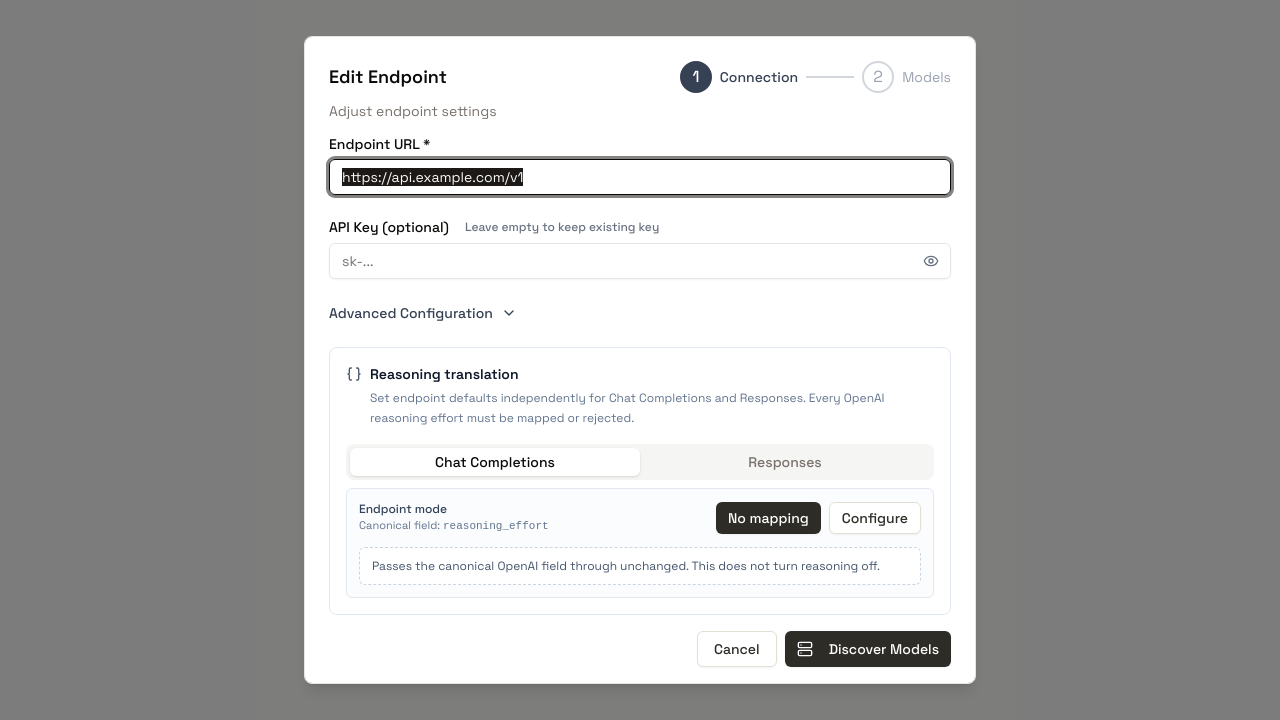
Test: EditEndpointModal › initializes form with endpoint data
Expected: the field showing "https://api.example.com/v1" is shown, [329,159,951,195]
Click the button "Discover Models". click: click(868, 648)
box: [785,630,951,666]
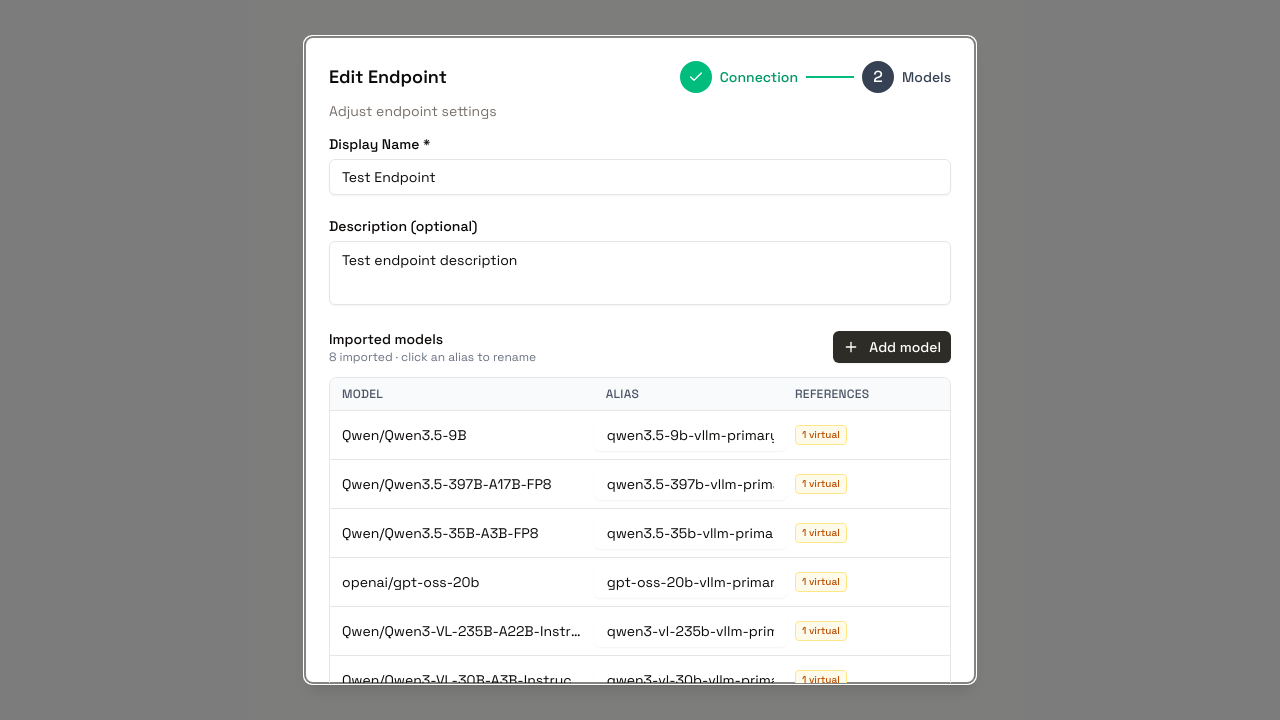
Result: the field showing "Test Endpoint" is shown at [329,159,951,195]
Result: the text box showing "Test endpoint description" is shown at [329,241,951,305]
